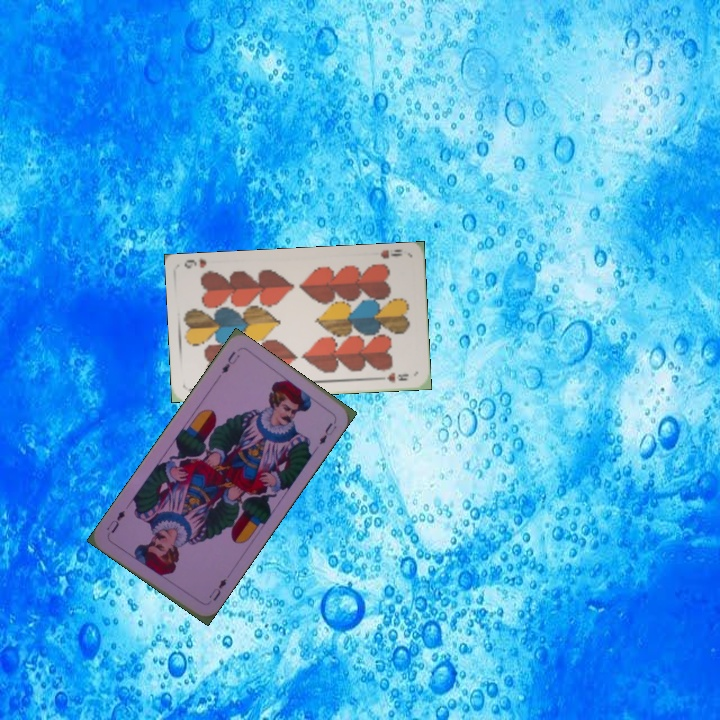EU: (217, 347, 243, 376), (205, 574, 229, 604)
H9: (377, 245, 405, 261)
